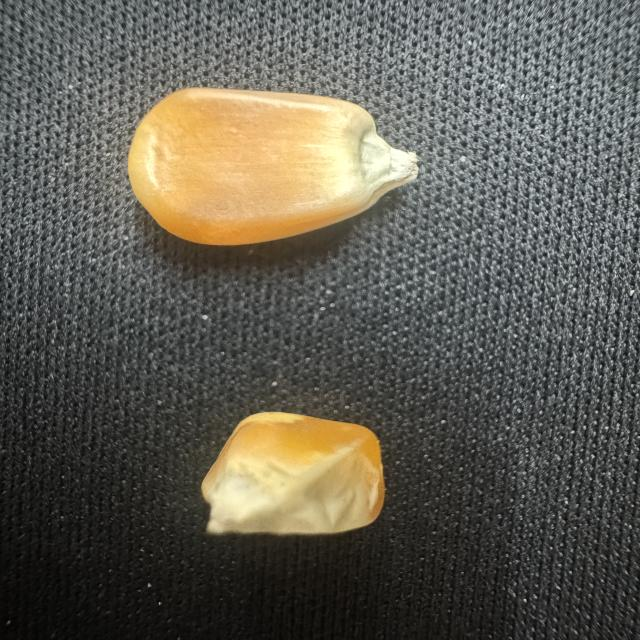Bad-Seed: (191, 402, 394, 544)
Good-Seed: (114, 72, 440, 252)
